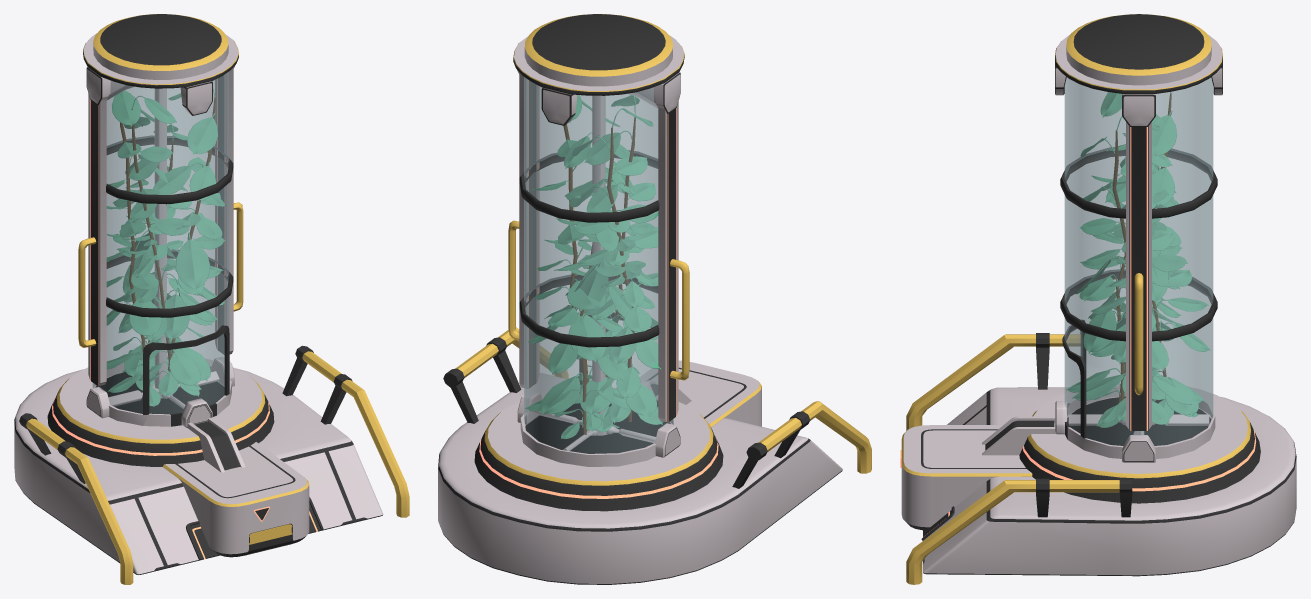
File: oxygen_farm_1.glb
3 views of the same model, side by side, from view 1: azimuth 30°, elevation 25°; view 2: azimuth 150°, elevation 25°; view 3: azimuth 270°, elevation 25° (orthographic). The views are drawn at different scales.
Visible parts, largest first — view 1: Oxygen_Farm_1; view 2: Oxygen_Farm_1; view 3: Oxygen_Farm_1.
Boxes of the visible parts, bbox=[...] form: Oxygen_Farm_1: bbox=[14, 14, 409, 584]; Oxygen_Farm_1: bbox=[438, 14, 871, 584]; Oxygen_Farm_1: bbox=[900, 14, 1296, 584].
Size of the model in its own units: 245 by 350 by 269.
